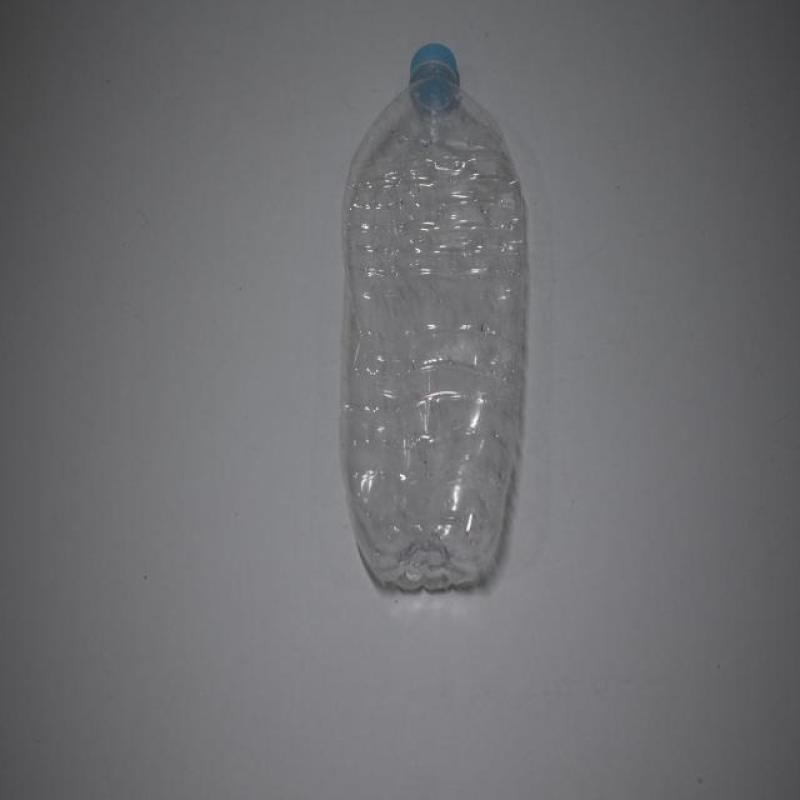botella: (347, 46, 523, 594)
